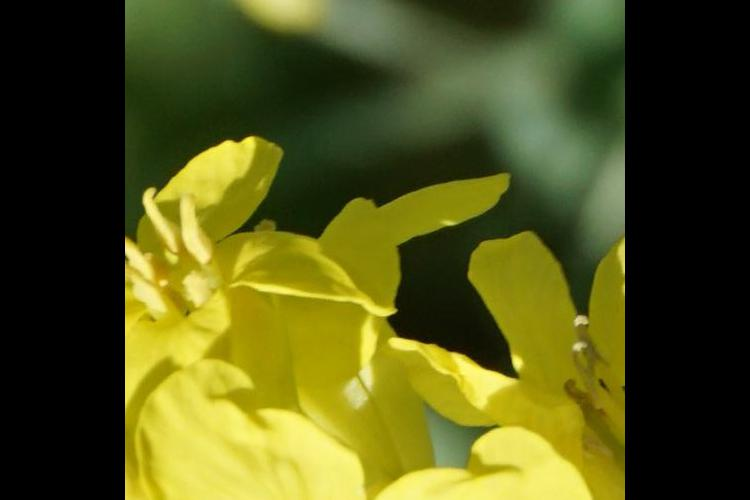yellow: (130, 143, 449, 440), (134, 362, 588, 500), (464, 225, 622, 500)
